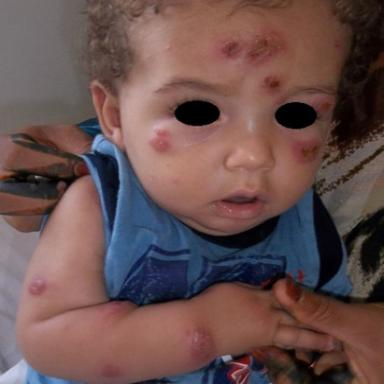Leishmanios: (248, 36, 282, 62), (189, 331, 214, 365), (295, 143, 319, 162), (222, 41, 241, 58), (28, 278, 46, 295), (150, 137, 169, 152), (264, 76, 280, 89)
